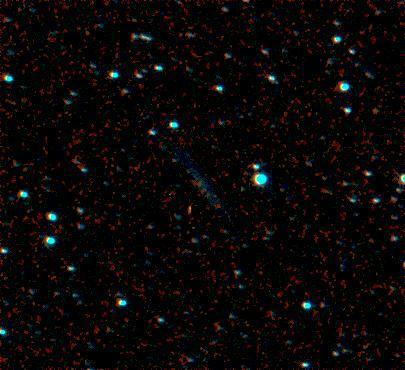star: (177, 188, 207, 218)
